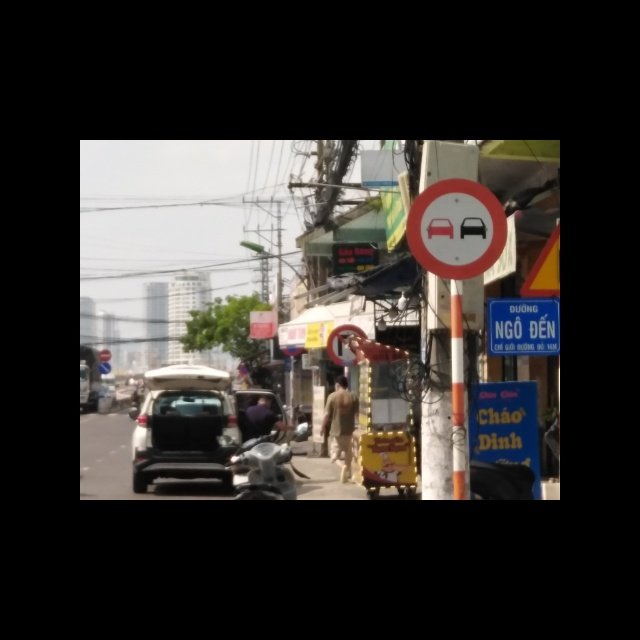Cấm vượt: (405, 178, 508, 279)
